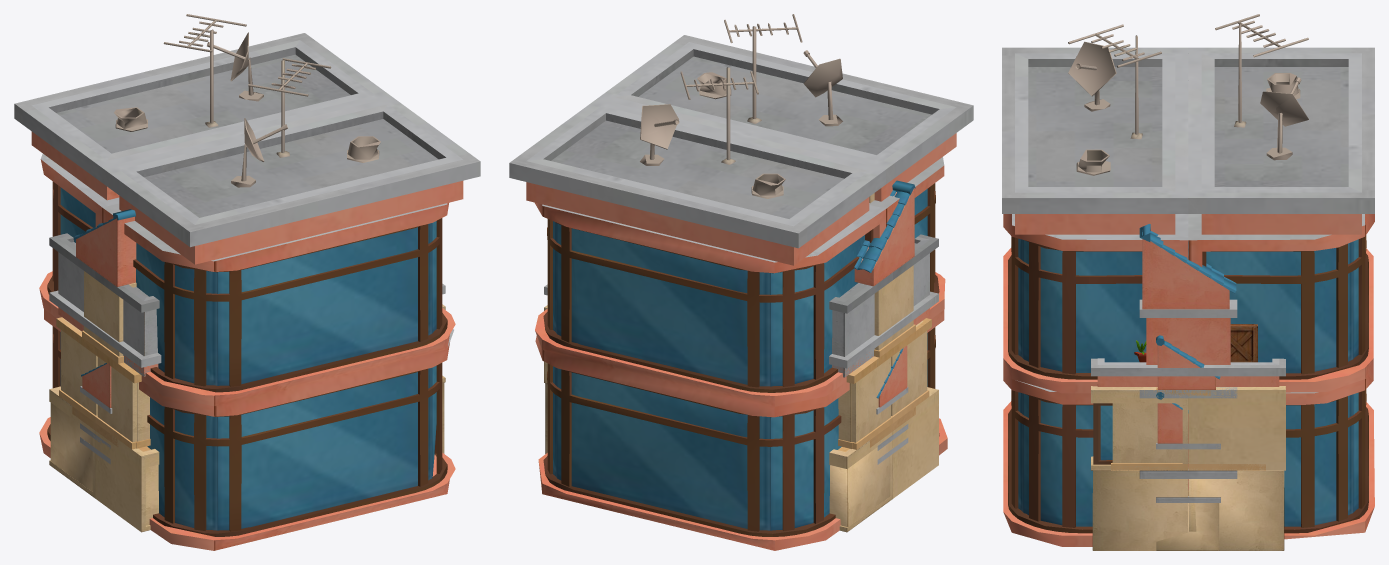
Rendered from fog_homes.glb.
3 renders of one model, left to right at view 1: azimuth 30°, elevation 25°; view 2: azimuth 150°, elevation 25°; view 3: azimuth 270°, elevation 25°, orthographic. The views are drawn at different scales.
Visible parts, largest first — view 1: home-glass, home-block, home-villa, home-tall, home-terrace; view 2: home-glass, home-block, home-tall, home-villa, home-terrace; view 3: home-glass, home-villa, home-block, home-tall, home-stepped, home-terrace.
Part boxes in pixels (left/top/right/bottom): home-glass: left=14, top=14, right=480, bottom=550; home-block: left=49, top=233, right=445, bottom=532; home-villa: left=49, top=286, right=445, bottom=525; home-tall: left=72, top=209, right=136, bottom=446; home-terrace: left=80, top=362, right=112, bottom=463; home-glass: left=509, top=14, right=973, bottom=550; home-block: left=544, top=234, right=938, bottom=532; home-tall: left=854, top=180, right=915, bottom=447; home-villa: left=544, top=284, right=938, bottom=526; home-terrace: left=876, top=345, right=908, bottom=464; home-glass: left=1002, top=14, right=1374, bottom=546; home-villa: left=1091, top=340, right=1285, bottom=550; home-block: left=1091, top=324, right=1285, bottom=470; home-tall: left=1139, top=224, right=1237, bottom=478; home-stepped: left=1156, top=335, right=1220, bottom=550; home-terrace: left=1156, top=392, right=1220, bottom=502.
Bounding box in the file's own units: 3 × 3.92 × 3.
1 material, 1 textured.
